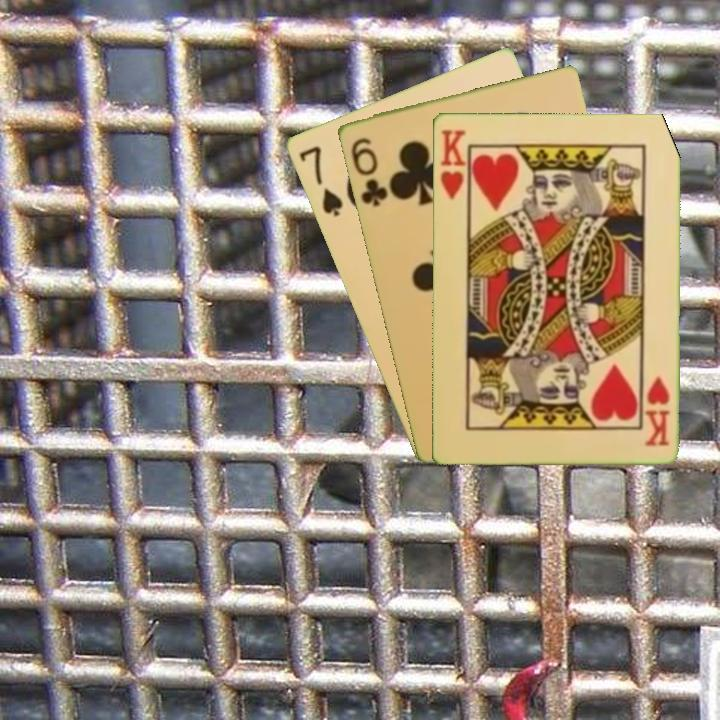6c: (346, 134, 390, 209)
7s: (295, 142, 346, 220)
Kh: (436, 126, 471, 207), (641, 372, 672, 448)
